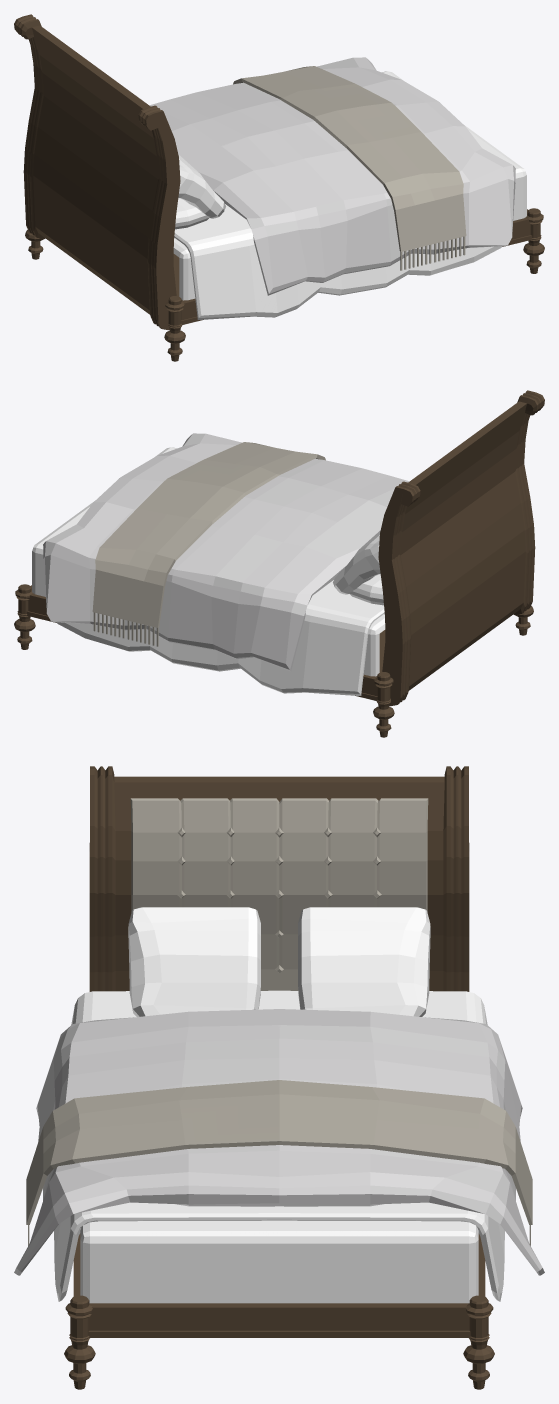
The model's file is SM_Bed_04.glb.
3 views of the same model, one above another, from view 1: azimuth 30°, elevation 25°; view 2: azimuth 150°, elevation 25°; view 3: azimuth 270°, elevation 25° (orthographic). The views are drawn at different scales.
Parts seen in each view (by area): view 1: SM_Bed_04; view 2: SM_Bed_04; view 3: SM_Bed_04.
Part boxes in pixels (x1,y1,x2,y2): SM_Bed_04: (14,14,544,361); SM_Bed_04: (14,390,544,737); SM_Bed_04: (14,766,544,1389).
Size of the model in its own units: 2.77 by 1.67 by 2.26.
1 material, 1 textured.
